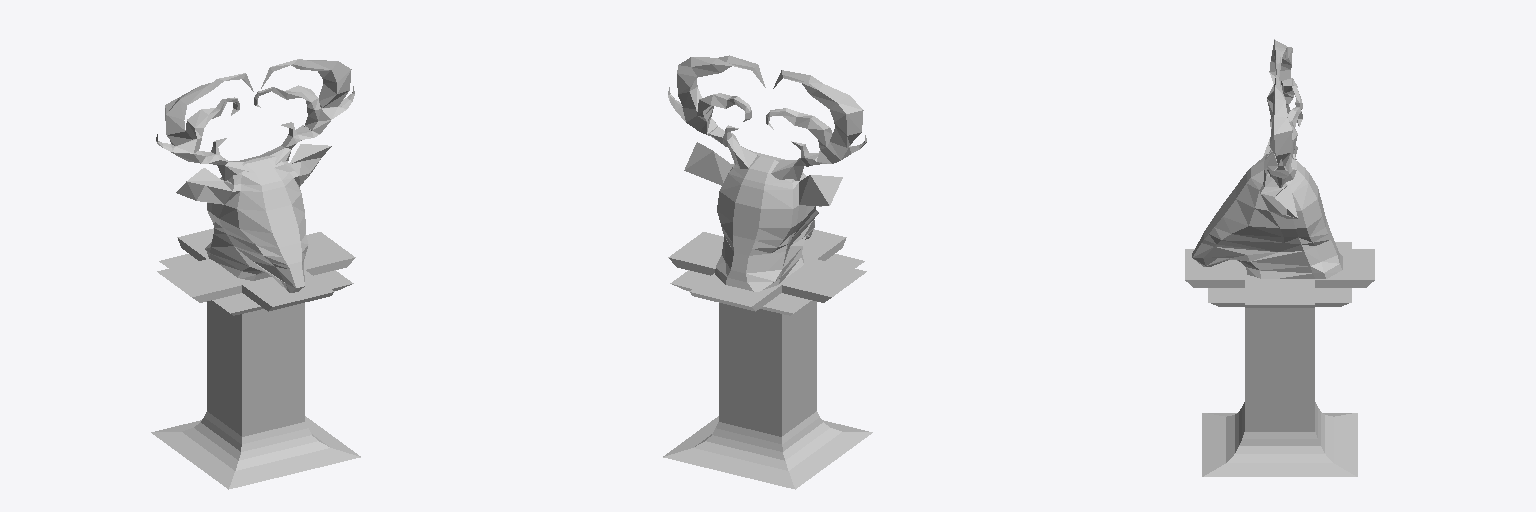
The model's file is deer1.obj.
3 views of the same model, side by side, from view 1: azimuth 30°, elevation 25°; view 2: azimuth 150°, elevation 25°; view 3: azimuth 270°, elevation 25° (orthographic).
Parts seen in each view (by area): view 1: King; view 2: King; view 3: King.
Boxes of the visible parts, x1=… form: King: x1=151, y1=59, x2=360, y2=489; King: x1=663, y1=55, x2=872, y2=489; King: x1=1185, y1=39, x2=1374, y2=476.
Size of the model in its own units: 4.58 by 8.37 by 3.83.